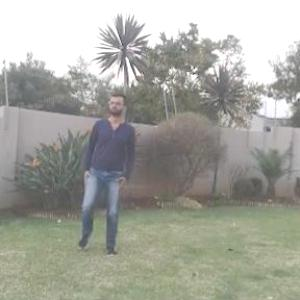follow: (76, 79, 138, 265)
